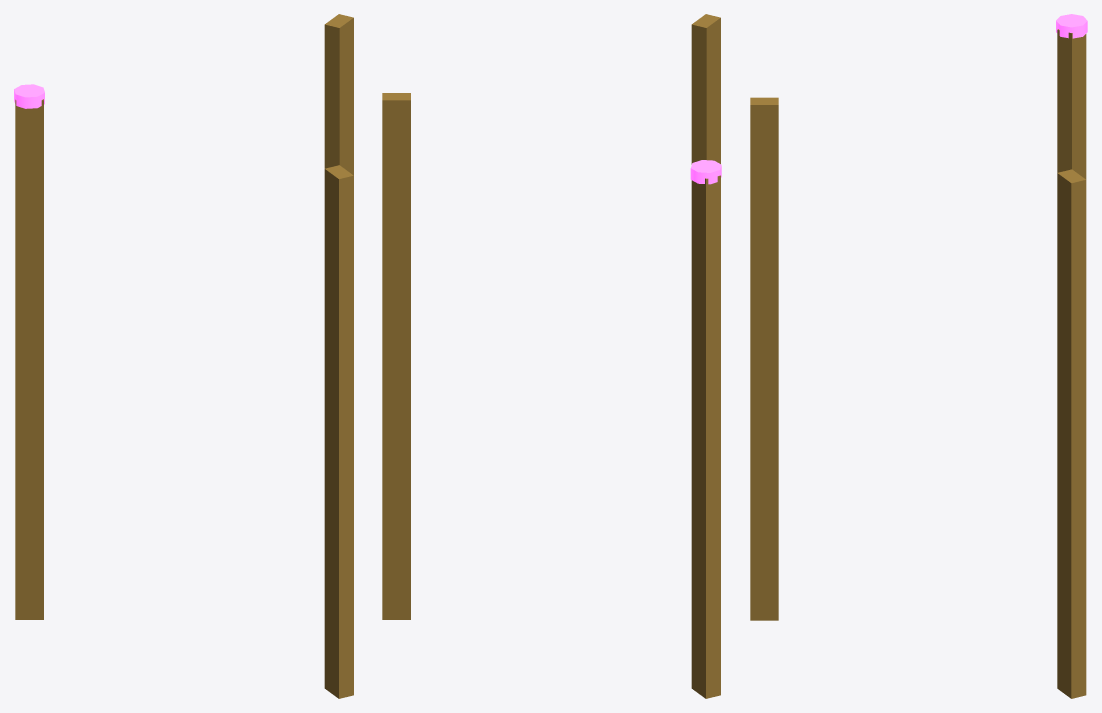
Rendered from tower_arc_damage_s2.glb.
3 renders of one model, left to right at view 1: azimuth 30°, elevation 25°; view 2: azimuth 150°, elevation 25°; view 3: azimuth 270°, elevation 25°, orthographic.
Parts seen in each view (by area): view 1: arc_ground_strap2, arc_ground_strap0, arc_ground_strap1, arc_up_damage_l2_stud; view 2: arc_ground_strap0, arc_ground_strap1, arc_ground_strap2, arc_up_damage_l2_stud; view 3: arc_ground_strap1, arc_ground_strap2, arc_ground_strap0, arc_up_damage_l2_stud.
Part boxes in pixels (x1,y1,x2,y2): arc_ground_strap2: [324, 165, 353, 698]; arc_ground_strap0: [15, 99, 43, 619]; arc_ground_strap1: [324, 14, 353, 175]; arc_up_damage_l2_stud: [14, 84, 44, 108]; arc_ground_strap0: [691, 175, 720, 698]; arc_ground_strap1: [382, 93, 410, 619]; arc_ground_strap2: [691, 14, 720, 164]; arc_up_damage_l2_stud: [690, 160, 721, 184]; arc_ground_strap1: [1057, 169, 1086, 698]; arc_ground_strap2: [750, 97, 778, 620]; arc_ground_strap0: [1057, 29, 1086, 179]; arc_up_damage_l2_stud: [1056, 14, 1087, 38].
Bounding box in the file's own units: 0.6818 × 1.01 × 0.593.
